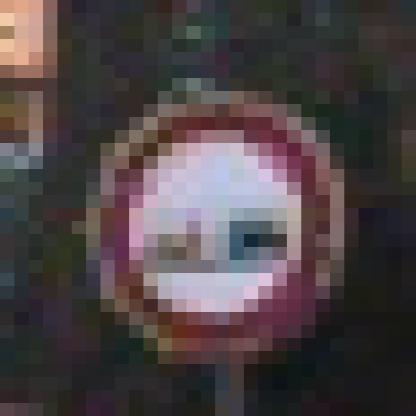No Overtaking: (87, 79, 345, 352)
